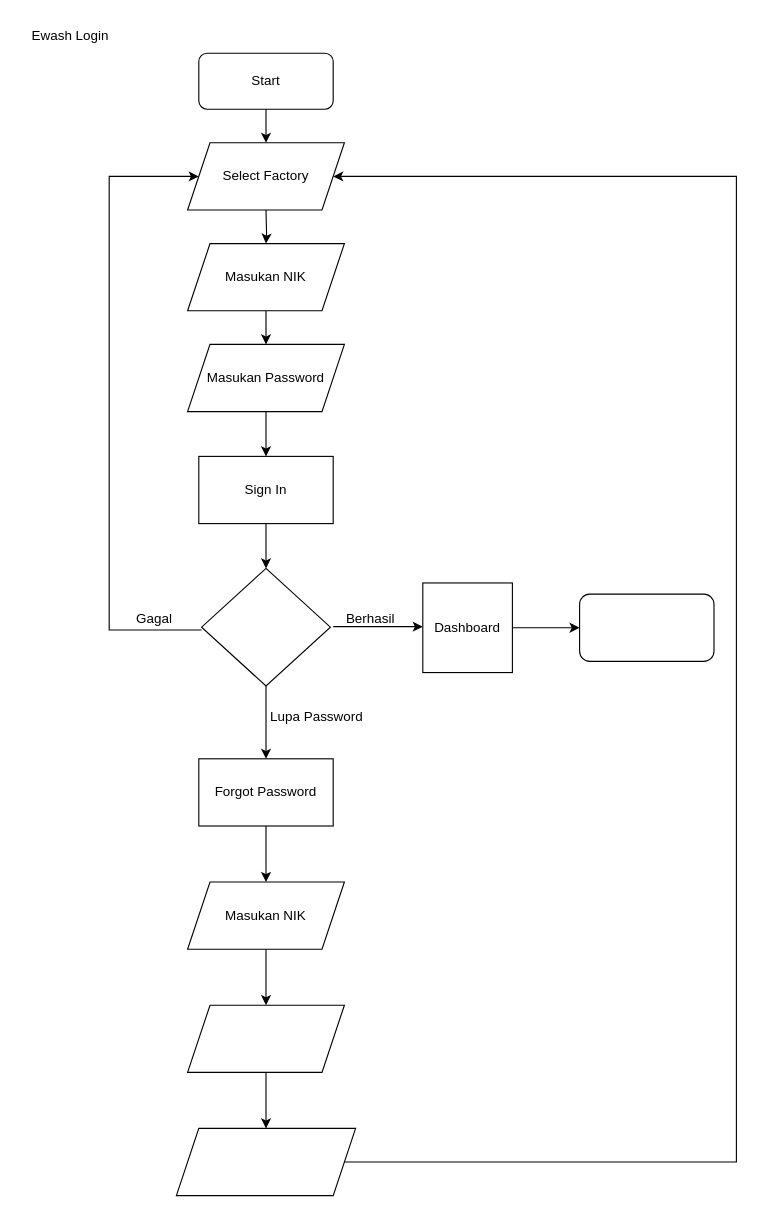
Some shapes in this 765 by 1215 pixel diagram are drawn without their labels. The centre of each missing label's shape, as x and y in pixels:
End: the point at 646,627
Jawab Pertanyaan: the point at 265,1038
Masukan Password Baru: the point at 265,1161
Verifikasi Login: the point at 265,626
